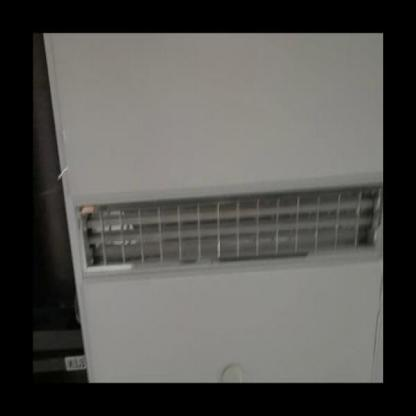light_off: (70, 114, 379, 296)
